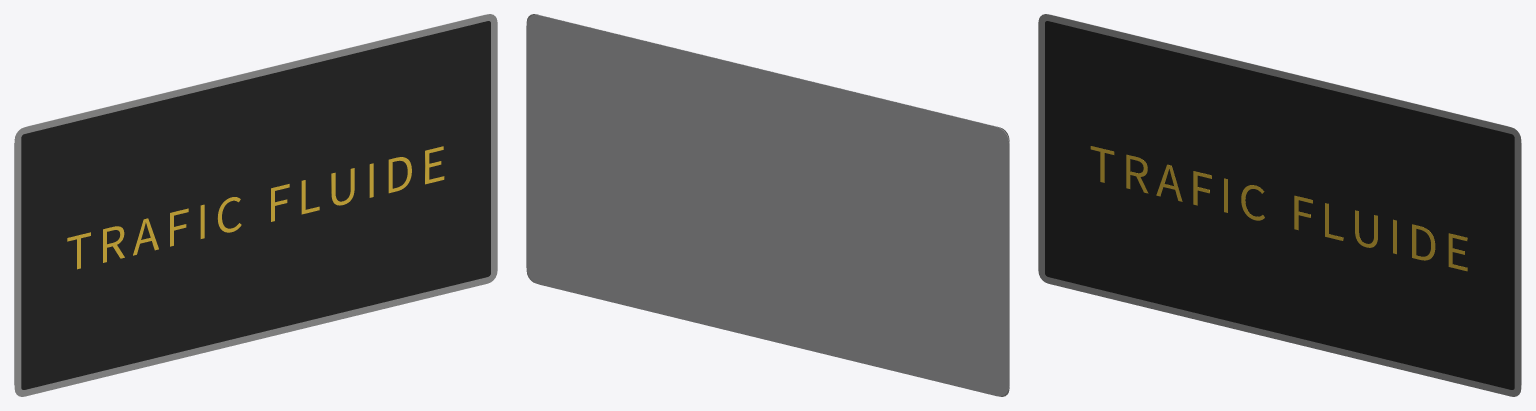
File: MSG_TRAFIC_FLUIDE_TRAFIC_NORMAL_CIRCULATION_NORMALE.glb
The picture shows the model from 3 angles, left to right: view 1: azimuth 30°, elevation 25°; view 2: azimuth 150°, elevation 25°; view 3: azimuth 330°, elevation 25°; orthographic projection.
Parts seen in each view (by area): view 1: MSG_TRAFIC_FLUIDE_TRAFIC_NORMAL_CIRCULATION_NORMALE_fond01, MSG_TRAFIC_FLUIDE_TRAFIC_NORMAL_CIRCULATION_NORMALE_cadre00, MSG_TRAFIC_FLUIDE_TRAFIC_NORMAL_CIRCULATION_NORMALE_txt02, MSG_TRAFIC_FLUIDE_TRAFIC_NORMAL_CIRCULATION_NORMALE_dos; view 2: MSG_TRAFIC_FLUIDE_TRAFIC_NORMAL_CIRCULATION_NORMALE_dos; view 3: MSG_TRAFIC_FLUIDE_TRAFIC_NORMAL_CIRCULATION_NORMALE_fond01, MSG_TRAFIC_FLUIDE_TRAFIC_NORMAL_CIRCULATION_NORMALE_cadre00, MSG_TRAFIC_FLUIDE_TRAFIC_NORMAL_CIRCULATION_NORMALE_txt02, MSG_TRAFIC_FLUIDE_TRAFIC_NORMAL_CIRCULATION_NORMALE_dos.
Part boxes in pixels (x1,y1,x2,y2): MSG_TRAFIC_FLUIDE_TRAFIC_NORMAL_CIRCULATION_NORMALE_fond01: (21, 21, 490, 389); MSG_TRAFIC_FLUIDE_TRAFIC_NORMAL_CIRCULATION_NORMALE_cadre00: (14, 14, 497, 396); MSG_TRAFIC_FLUIDE_TRAFIC_NORMAL_CIRCULATION_NORMALE_txt02: (67, 146, 444, 269); MSG_TRAFIC_FLUIDE_TRAFIC_NORMAL_CIRCULATION_NORMALE_dos: (14, 14, 484, 384); MSG_TRAFIC_FLUIDE_TRAFIC_NORMAL_CIRCULATION_NORMALE_dos: (526, 14, 1009, 396); MSG_TRAFIC_FLUIDE_TRAFIC_NORMAL_CIRCULATION_NORMALE_fond01: (1045, 21, 1514, 389); MSG_TRAFIC_FLUIDE_TRAFIC_NORMAL_CIRCULATION_NORMALE_cadre00: (1038, 14, 1521, 396); MSG_TRAFIC_FLUIDE_TRAFIC_NORMAL_CIRCULATION_NORMALE_txt02: (1090, 146, 1467, 271); MSG_TRAFIC_FLUIDE_TRAFIC_NORMAL_CIRCULATION_NORMALE_dos: (1051, 14, 1521, 384).
Size of the model in its own units: 1.5 by 0.8 by 0.0025.
